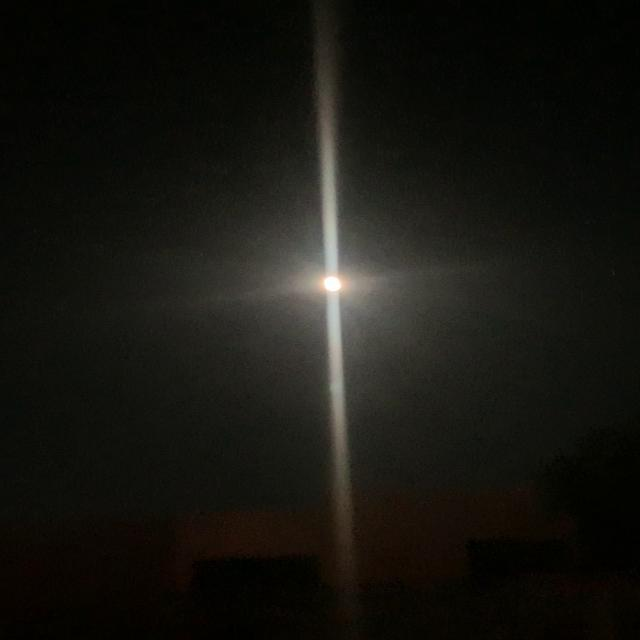moon: (304, 270, 366, 298)
